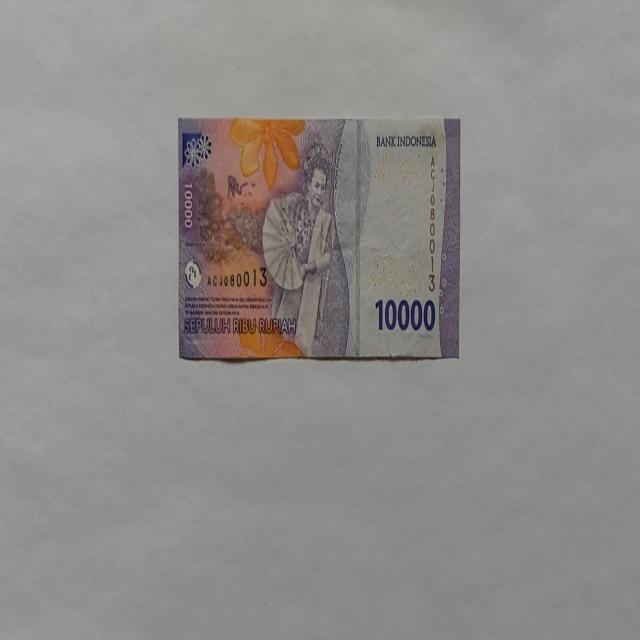sepuluh ribu rupiah: (176, 115, 460, 362)
